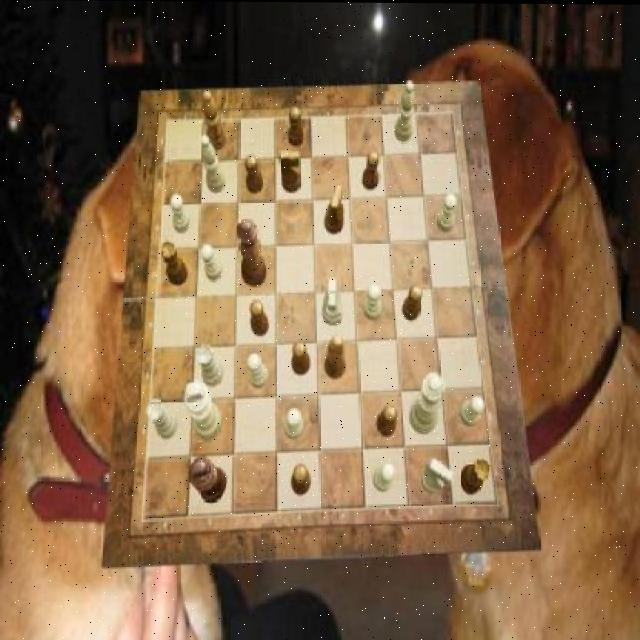bishop: (203, 90, 227, 150), (325, 333, 347, 378)
black-bishop: (189, 456, 227, 502)
black-king: (278, 149, 301, 192), (324, 185, 344, 234)
black-knight: (244, 155, 264, 194), (403, 284, 423, 320), (292, 340, 312, 375), (377, 403, 398, 436), (363, 150, 380, 190), (291, 463, 311, 496), (250, 300, 268, 336), (288, 106, 304, 146)
black-pawn: (237, 220, 267, 288)
black-queen: (162, 239, 188, 285), (460, 456, 491, 494)
black-rook: (202, 133, 226, 191), (396, 81, 416, 142)
white-bishop: (186, 381, 223, 441)
white-king: (422, 458, 454, 494), (322, 279, 342, 325)
white-knight: (201, 243, 224, 281), (437, 193, 457, 232), (460, 396, 485, 427), (171, 195, 191, 233), (372, 462, 395, 493), (248, 354, 268, 388), (284, 408, 304, 441), (365, 284, 382, 321)
white-pawn: (411, 372, 446, 434)
white-queen: (148, 399, 178, 440), (197, 344, 225, 387)
